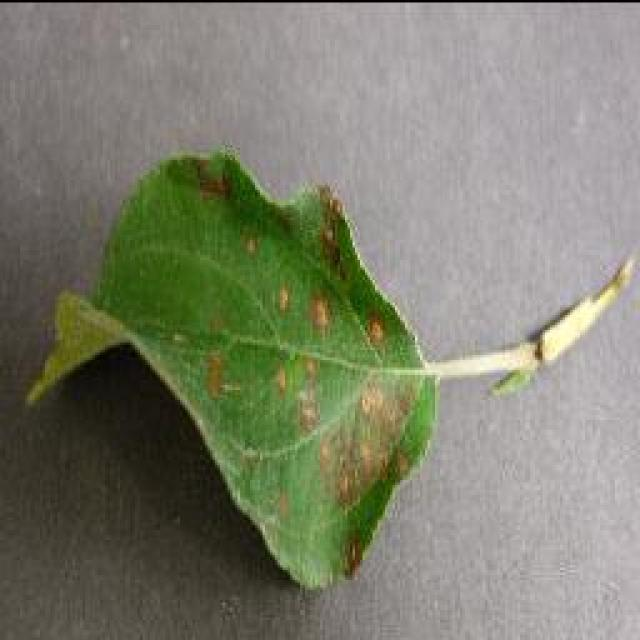apple healthy: (22, 145, 638, 593)
